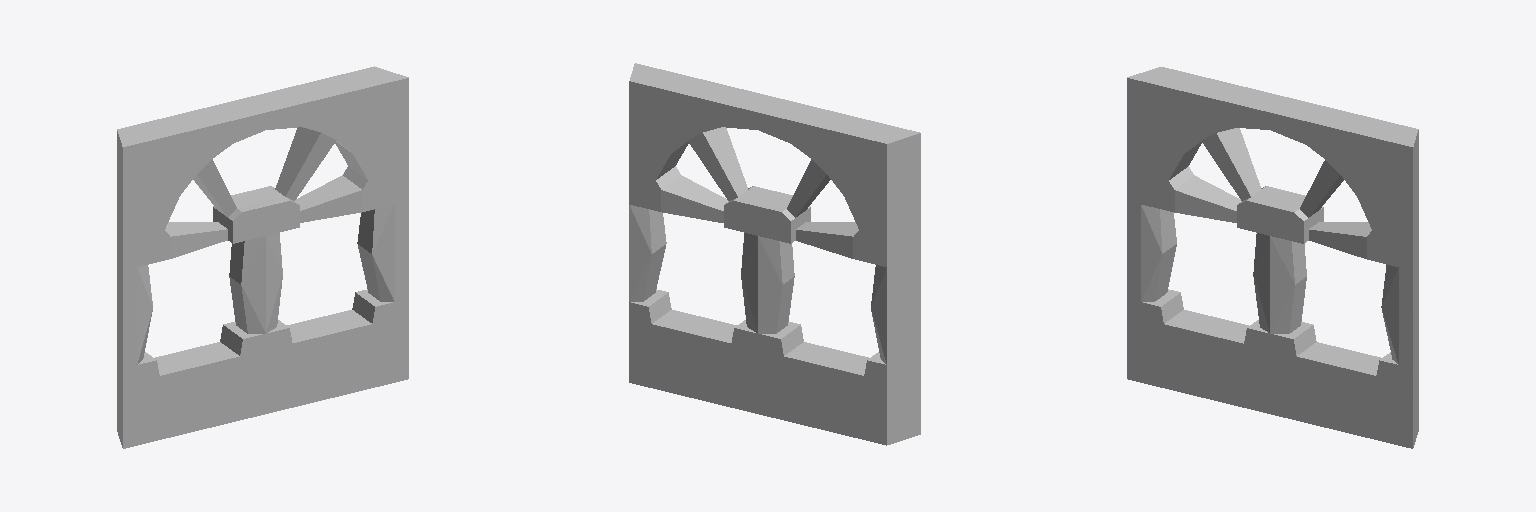
The model's file is P_Modul_03_Wall06.obj.
The picture shows the model from 3 angles: view 1: azimuth 30°, elevation 25°; view 2: azimuth 150°, elevation 25°; view 3: azimuth 330°, elevation 25°; orthographic projection.
Visible parts, largest first — view 1: P_Modul_03_Wall06; view 2: P_Modul_03_Wall06; view 3: P_Modul_03_Wall06.
Boxes of the visible parts, <box> form: P_Modul_03_Wall06: <box>117,66,408,448</box>; P_Modul_03_Wall06: <box>629,63,920,445</box>; P_Modul_03_Wall06: <box>1127,67,1418,448</box>.
Size of the model in its own units: 7.23 by 7.28 by 0.8764.